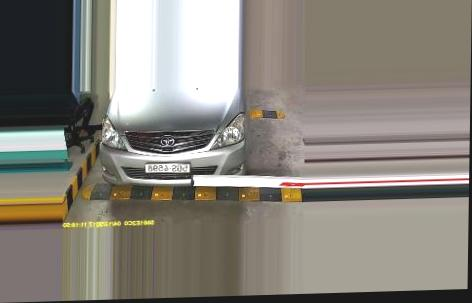License_Plate: (144, 160, 193, 175)
